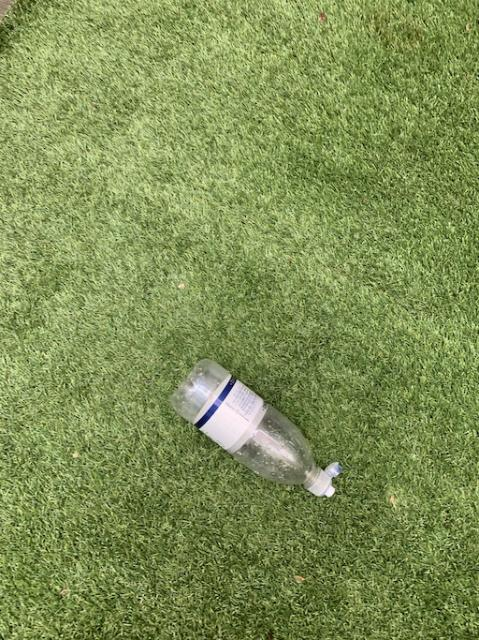plastic: (170, 358, 340, 495)
